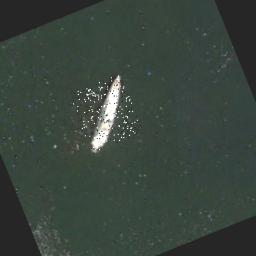boat: (68, 74, 143, 152)
